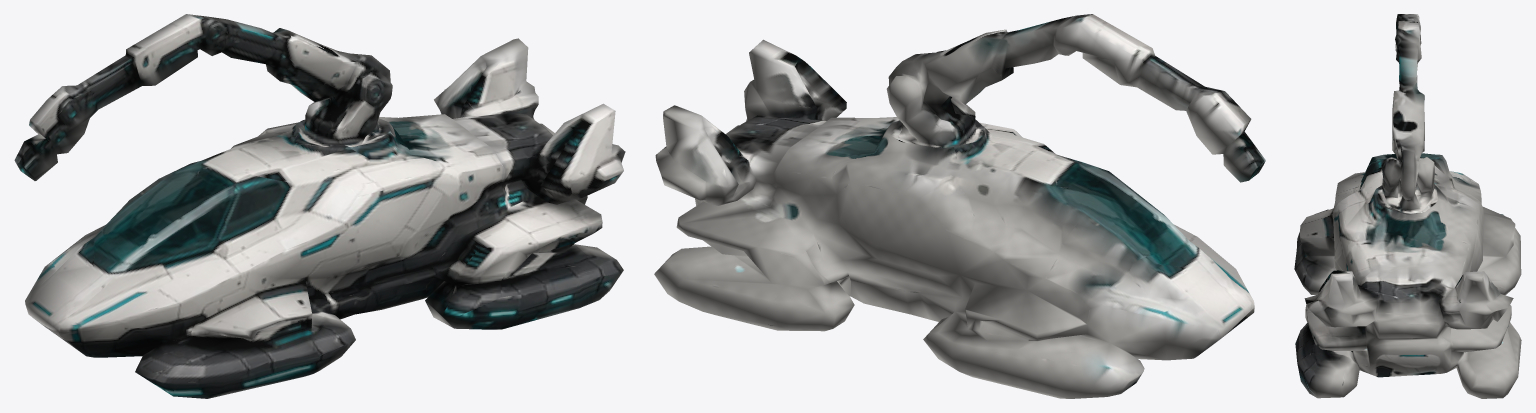
Rendered from wayfarer_lod2.glb.
3 views of the same model, side by side, from view 1: azimuth 30°, elevation 25°; view 2: azimuth 150°, elevation 25°; view 3: azimuth 270°, elevation 25° (orthographic). The views are drawn at different scales.
Parts seen in each view (by area): view 1: geometry_0; view 2: geometry_0; view 3: geometry_0.
Part boxes in pixels (x1,y1,x2,y2): geometry_0: (14, 14, 625, 398); geometry_0: (654, 14, 1265, 398); geometry_0: (1294, 14, 1521, 398).
Size of the model in its own units: 2 by 1.12 by 0.9395.
1 material, 1 textured.
